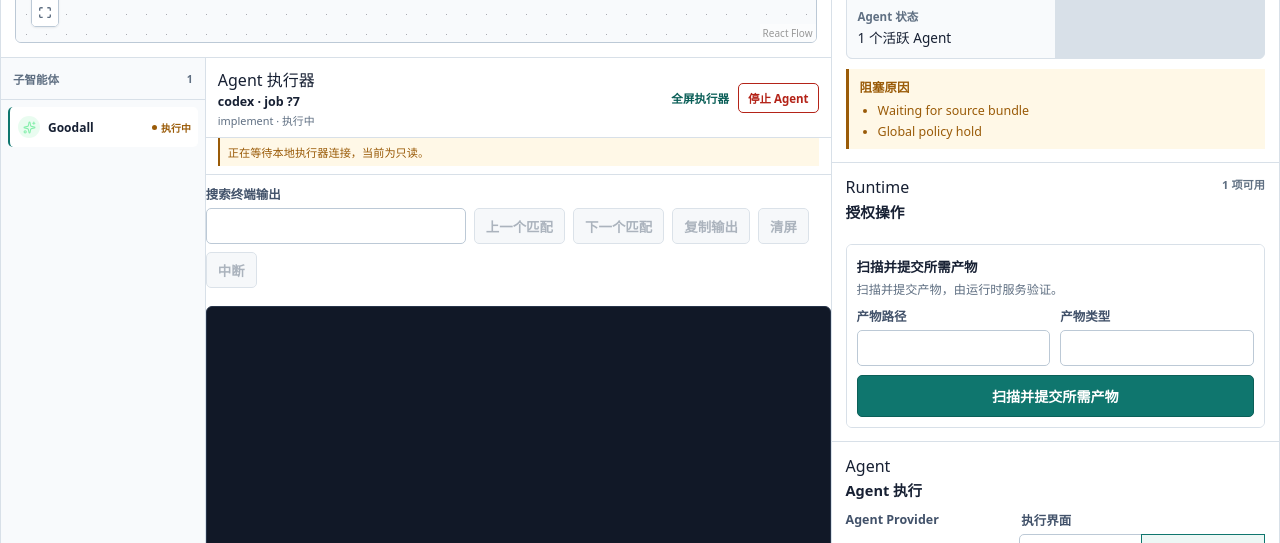
Scenario: RunDetailPage › hides write actions immediately after an archived response while refreshing
The width and height of the screenshot is (1280, 543).
(page scrolled)
Type "docs/release.md" into the field labelled "产物路径".
click(953, 348); type("docs/release.md")  # box [857,330,1050,366]
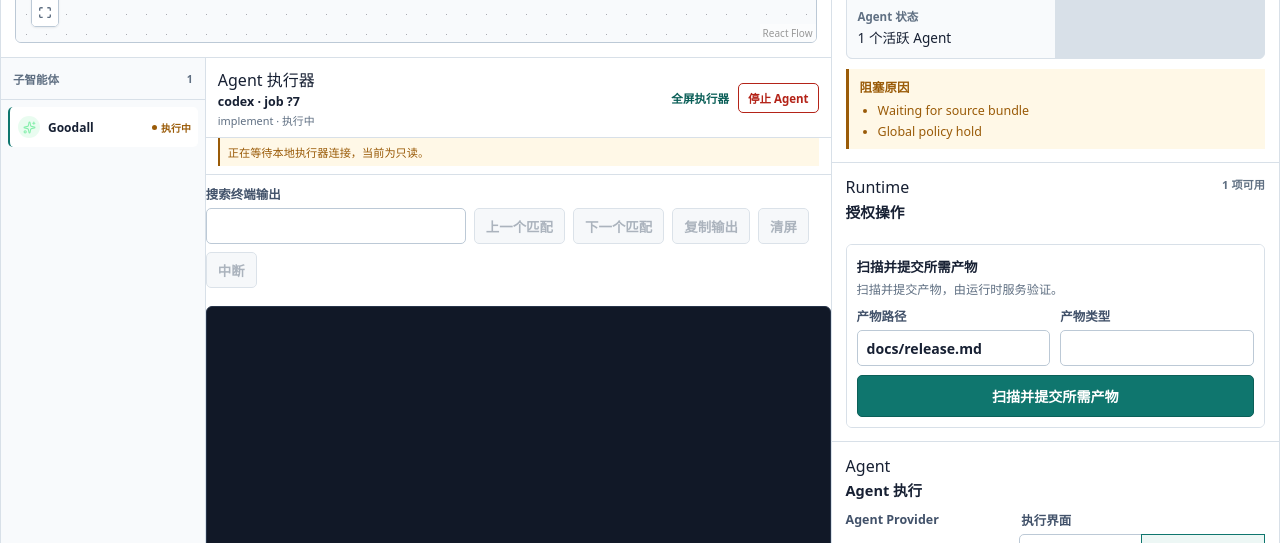
Type "document" into the field labelled "产物类型".
click(1157, 348); type("document")  # box [1060,330,1254,366]
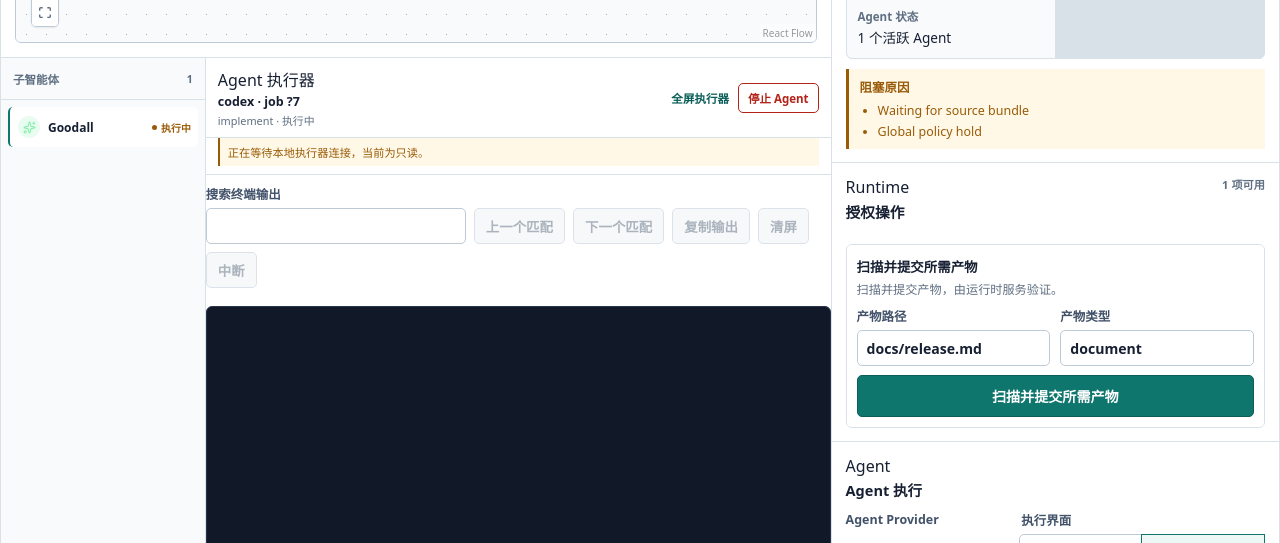
Click the button "扫描并提交所需产物".
click(1055, 396)  # box [857,375,1254,417]
(page scrolled)
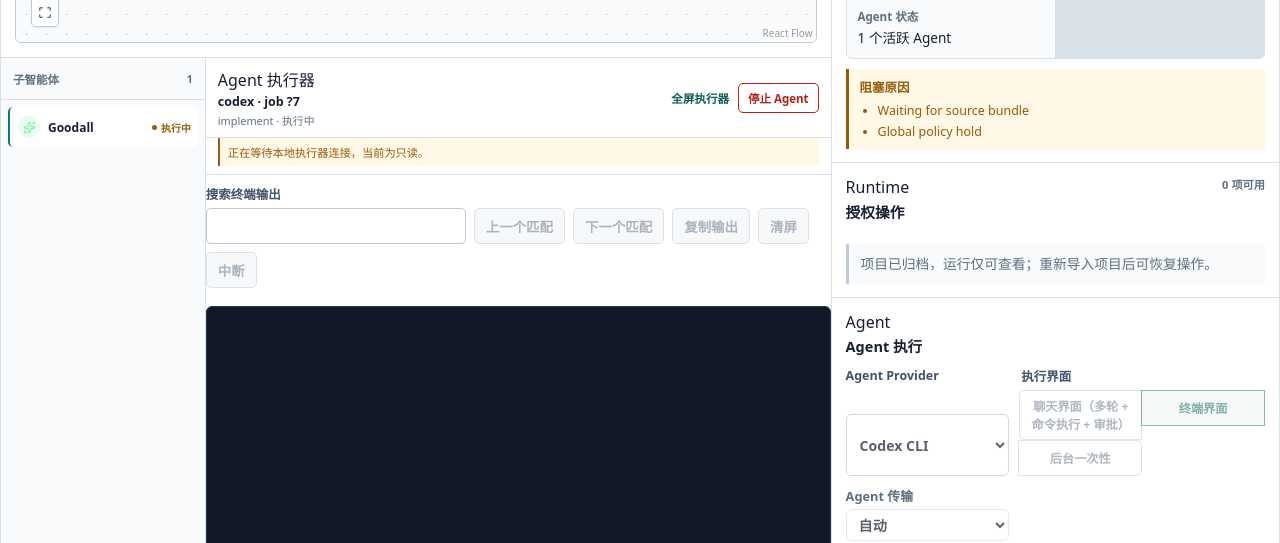
Expected: the text "扫描并提交所需产物" is gone
Expected: the element "Runtime 授权操作" shows "0 项可用", [832,162,1279,297]
